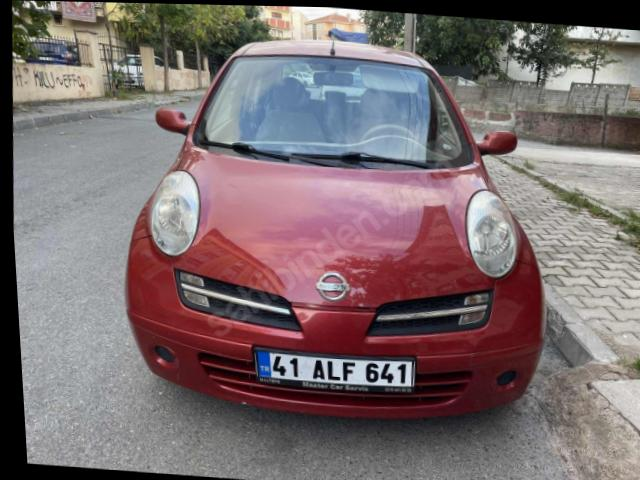plaka: (255, 350, 414, 392)
